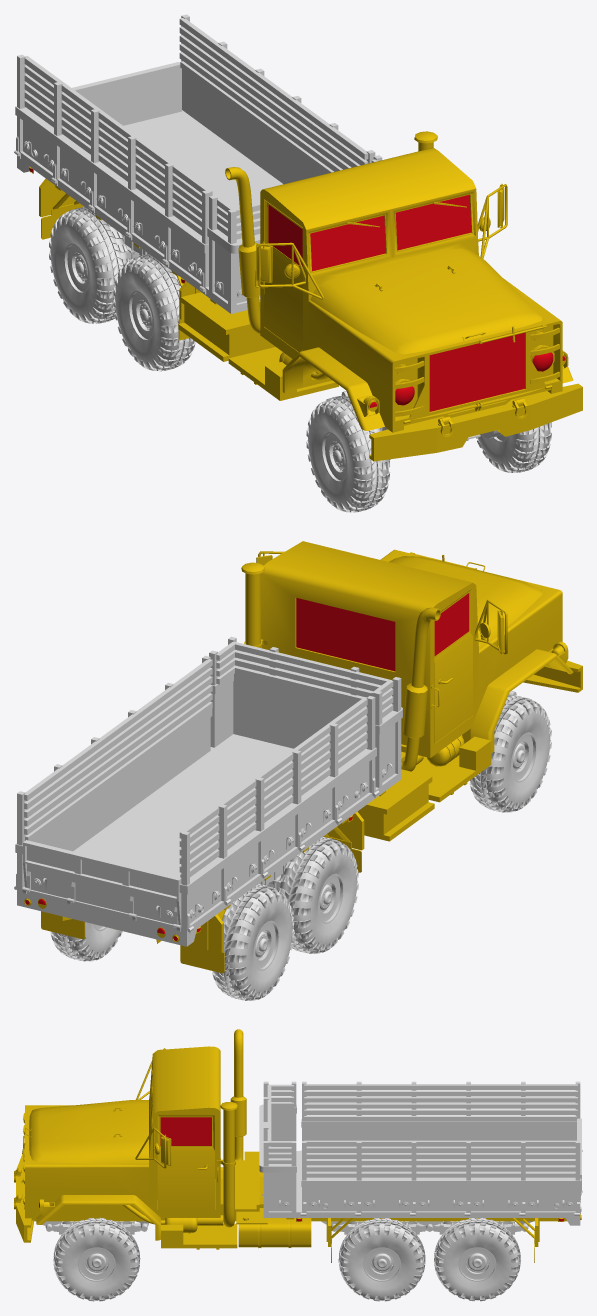
The model's file is MilitaryTruckAchterbak+KlepRealsize.fbx.
The picture shows the model from 3 angles, top to bottom: view 1: azimuth 30°, elevation 25°; view 2: azimuth 150°, elevation 25°; view 3: azimuth 270°, elevation 25°; orthographic projection. The views are drawn at different scales.
Visible parts, largest first — view 1: TruckVoorkant, Achterbak, Cube.004, TruckOnderkant, Cube.006, Cube.005, Achterkantklep; view 2: Achterbak, TruckVoorkant, TruckOnderkant, Cube.006, Achterkantklep, Cube.005, Cube.004; view 3: Achterbak, TruckVoorkant, TruckOnderkant, Cube.004, Cube.005, Cube.006, Veringen.
Part boxes in pixels (x1,y1,x2,y2): TruckVoorkant: (225, 131, 582, 461); Achterbak: (14, 14, 382, 313); Cube.004: (306, 395, 551, 512); TruckOnderkant: (29, 166, 338, 400); Cube.006: (49, 207, 130, 323); Cube.005: (113, 254, 195, 371); Achterkantklep: (25, 62, 181, 125); Achterbak: (14, 636, 402, 946); TruckVoorkant: (241, 541, 582, 771); TruckOnderkant: (24, 735, 491, 973); Cube.006: (50, 884, 294, 1000); Achterkantklep: (23, 840, 181, 927); Cube.005: (277, 837, 358, 953); Cube.004: (469, 695, 551, 812); Achterbak: (259, 1081, 581, 1225); TruckVoorkant: (14, 1029, 246, 1242); TruckOnderkant: (32, 1151, 581, 1262); Cube.004: (53, 1217, 140, 1301); Cube.005: (338, 1218, 425, 1301); Cube.006: (434, 1218, 520, 1301); Veringen: (42, 1221, 533, 1234).
Bounding box in the file's own units: 294 × 309 × 787.
